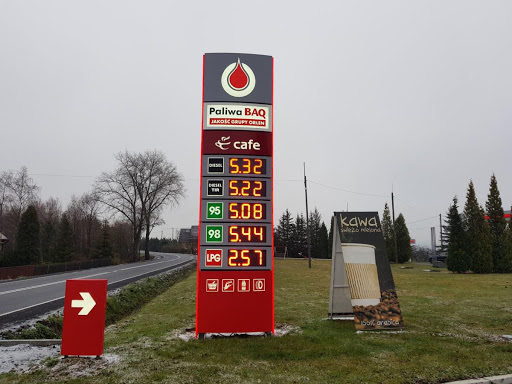LPG: (204, 247, 223, 266)
PB95: (204, 200, 224, 220)
PB98: (205, 225, 222, 244)
